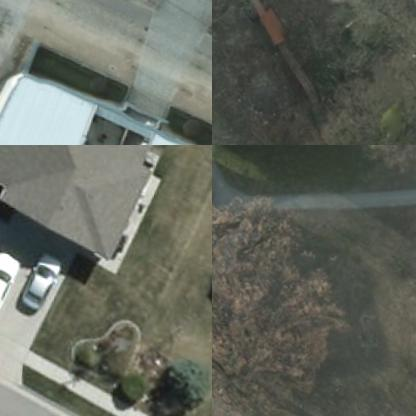car: (10, 248, 61, 314), (0, 246, 22, 319)
